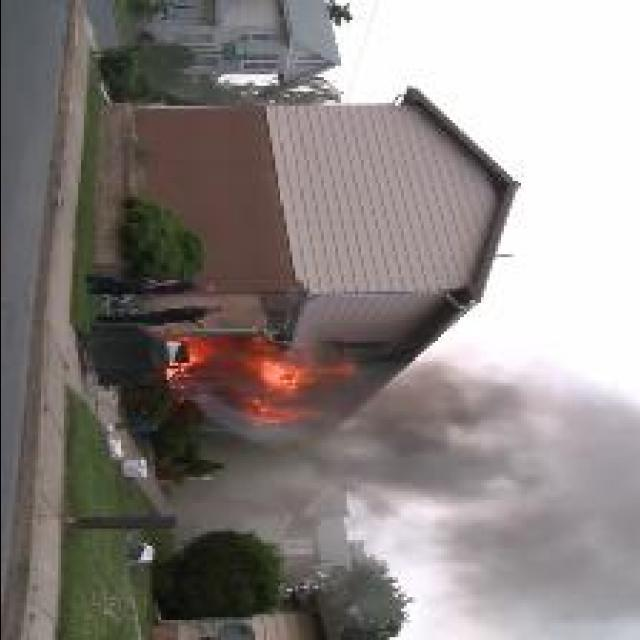Fire: (238, 336, 352, 424), (161, 338, 213, 378)
